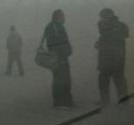person: (34, 8, 83, 111), (92, 6, 134, 113), (3, 24, 28, 79)
